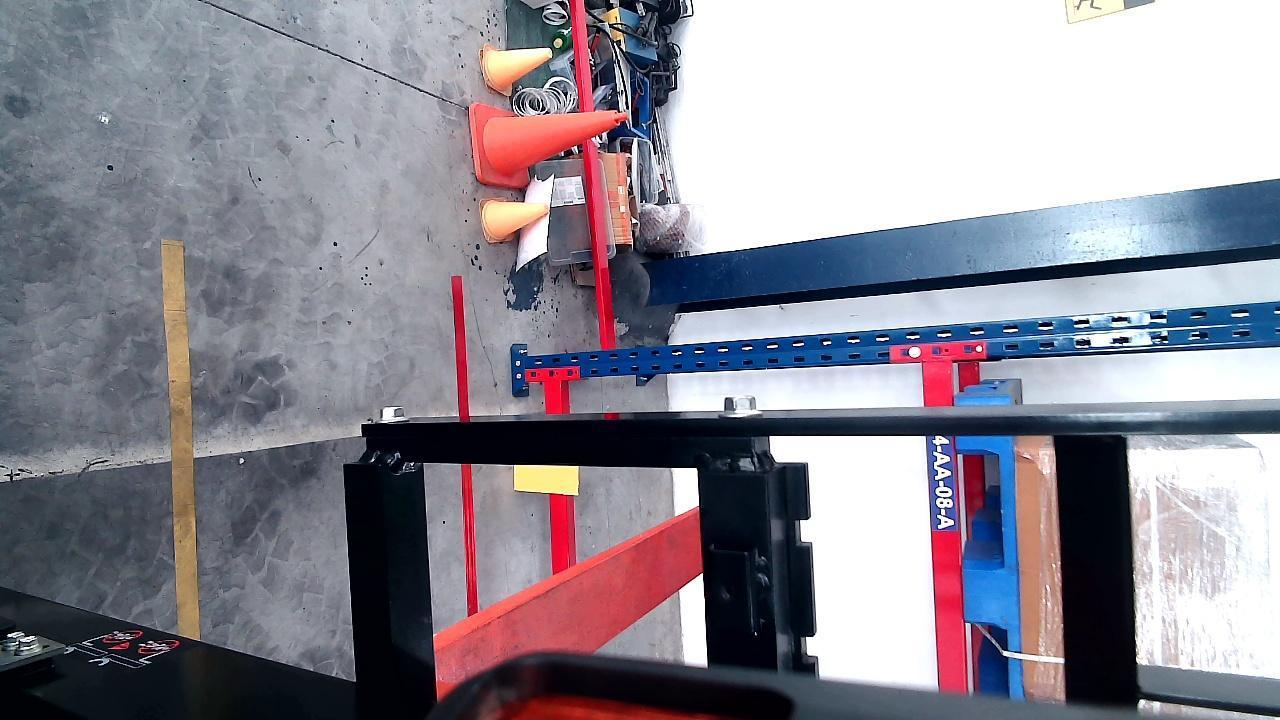h_rack: (925, 367, 970, 697), (542, 382, 573, 572)
orange_strip: (515, 464, 577, 493)
red_line: (449, 262, 482, 620)
small_pallet: (959, 429, 1021, 697)
yellow_line: (168, 233, 199, 641)
